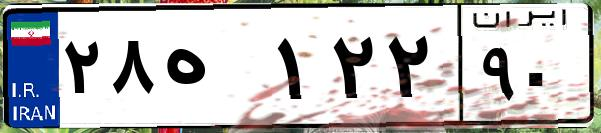0: (525, 38, 570, 115)
1: (270, 28, 330, 110)
2: (385, 28, 445, 110), (330, 28, 385, 110), (57, 26, 110, 100)
8: (110, 28, 158, 98)
9: (475, 38, 525, 113)
ه: (158, 20, 270, 120)
